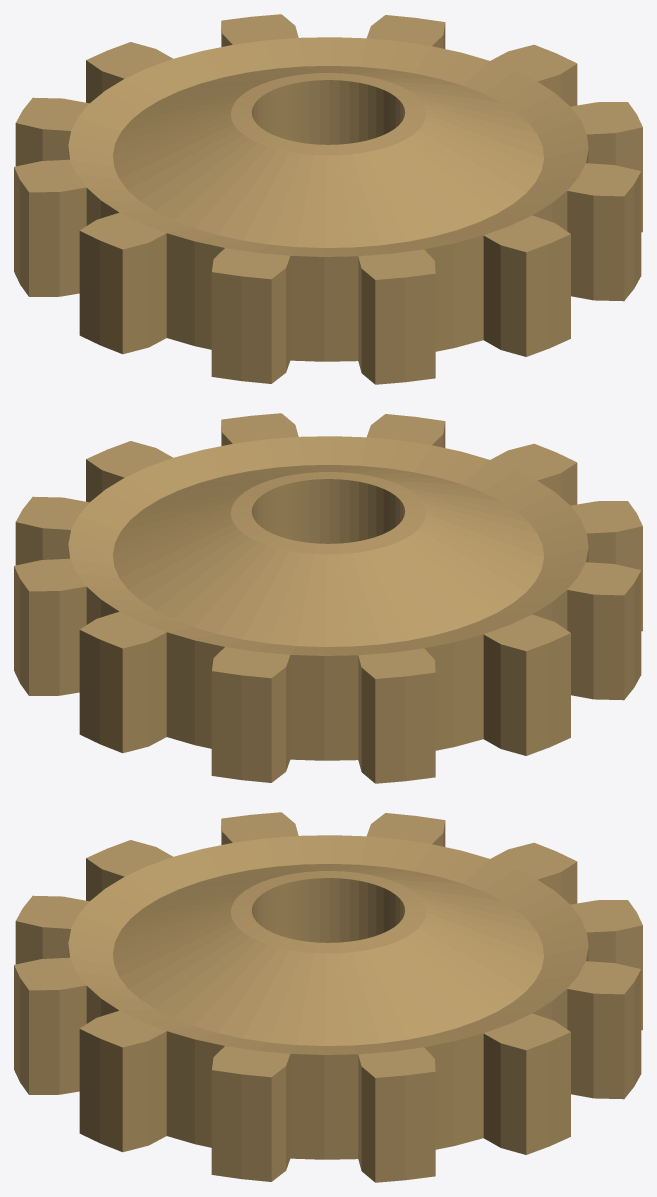
The model's file is Rouage2.fbx.
The picture shows the model from 3 angles, top to bottom: view 1: azimuth 30°, elevation 25°; view 2: azimuth 150°, elevation 25°; view 3: azimuth 270°, elevation 25°; orthographic projection.
Visible parts, largest first — view 1: Gear.2; view 2: Gear.2; view 3: Gear.2.
Boxes of the visible parts, left/top/right/bottom form: Gear.2: left=14, top=14, right=642, bottom=384; Gear.2: left=14, top=413, right=642, bottom=783; Gear.2: left=14, top=812, right=642, bottom=1182.
Bounding box in the file's own units: 20856 × 6374 × 20856.
